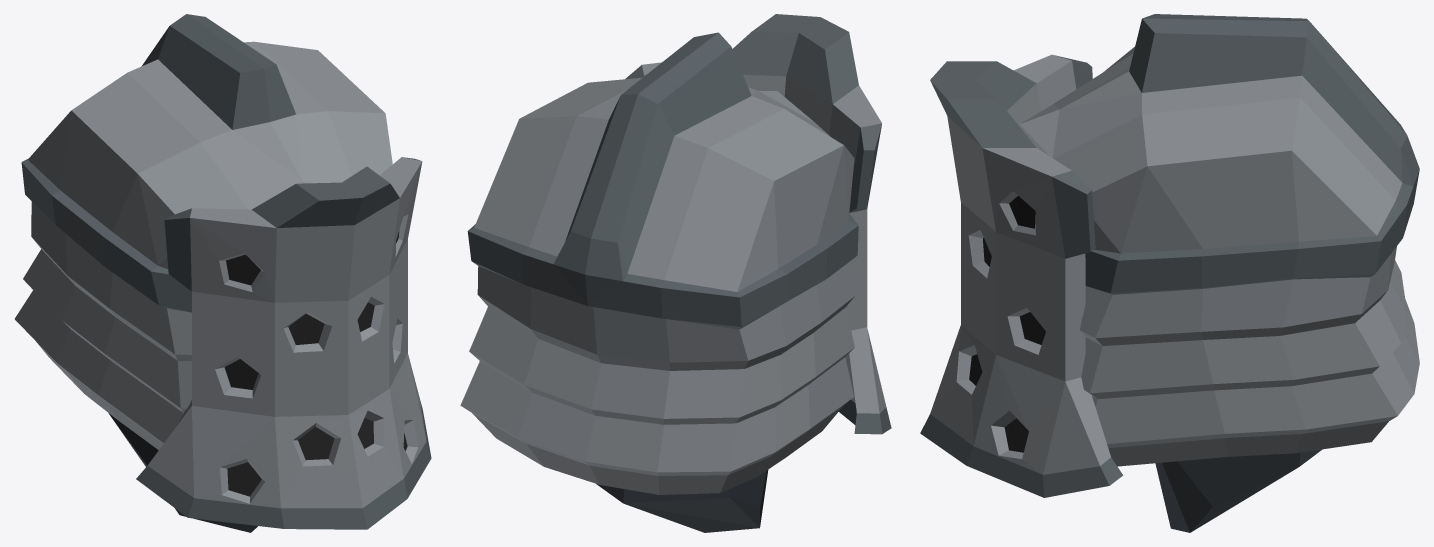
The model's file is Chr_Head_No_Elements_Female_13_Static.fbx.
3 views of the same model, side by side, from view 1: azimuth 30°, elevation 25°; view 2: azimuth 150°, elevation 25°; view 3: azimuth 270°, elevation 25° (orthographic). The views are drawn at different scales.
Visible parts, largest first — view 1: Chr_Head_No_Elements_Female_13_Static; view 2: Chr_Head_No_Elements_Female_13_Static; view 3: Chr_Head_No_Elements_Female_13_Static.
Part boxes in pixels (box(x1,y1,x2,y2)): Chr_Head_No_Elements_Female_13_Static: box(15, 14, 431, 532); Chr_Head_No_Elements_Female_13_Static: box(460, 14, 891, 532); Chr_Head_No_Elements_Female_13_Static: box(920, 14, 1419, 532).
Bounding box in the file's own units: 0.251 × 0.3967 × 0.3522.
